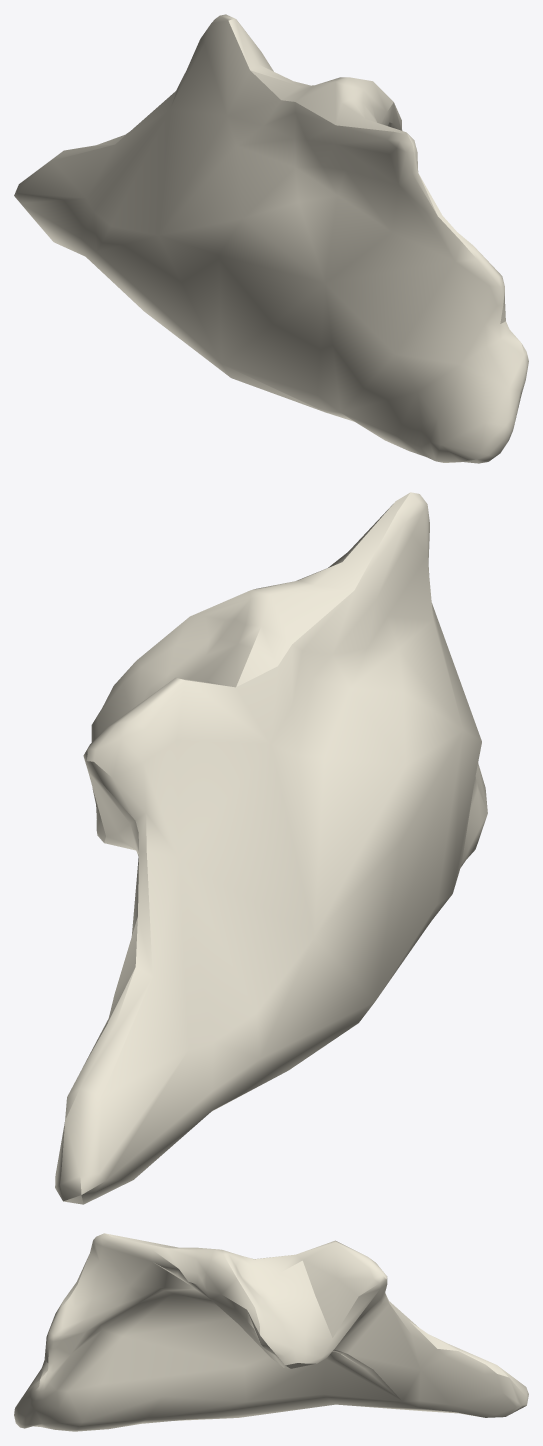
Rendered from fma54738_fj3263.glb.
The picture shows the model from 3 angles, top to bottom: view 1: azimuth 30°, elevation 25°; view 2: azimuth 150°, elevation 25°; view 3: azimuth 270°, elevation 25°; orthographic projection. The views are drawn at different scales.
Visible parts, largest first — view 1: FMA54738_FJ3263; view 2: FMA54738_FJ3263; view 3: FMA54738_FJ3263.
Part boxes in pixels (x1=…): FMA54738_FJ3263: x1=14, y1=14, x2=528, y2=463; FMA54738_FJ3263: x1=55, y1=492, x2=487, y2=1204; FMA54738_FJ3263: x1=14, y1=1233, x2=528, y2=1431.
Size of the model in its own units: 0.0113 by 0.0154 by 0.0355.
